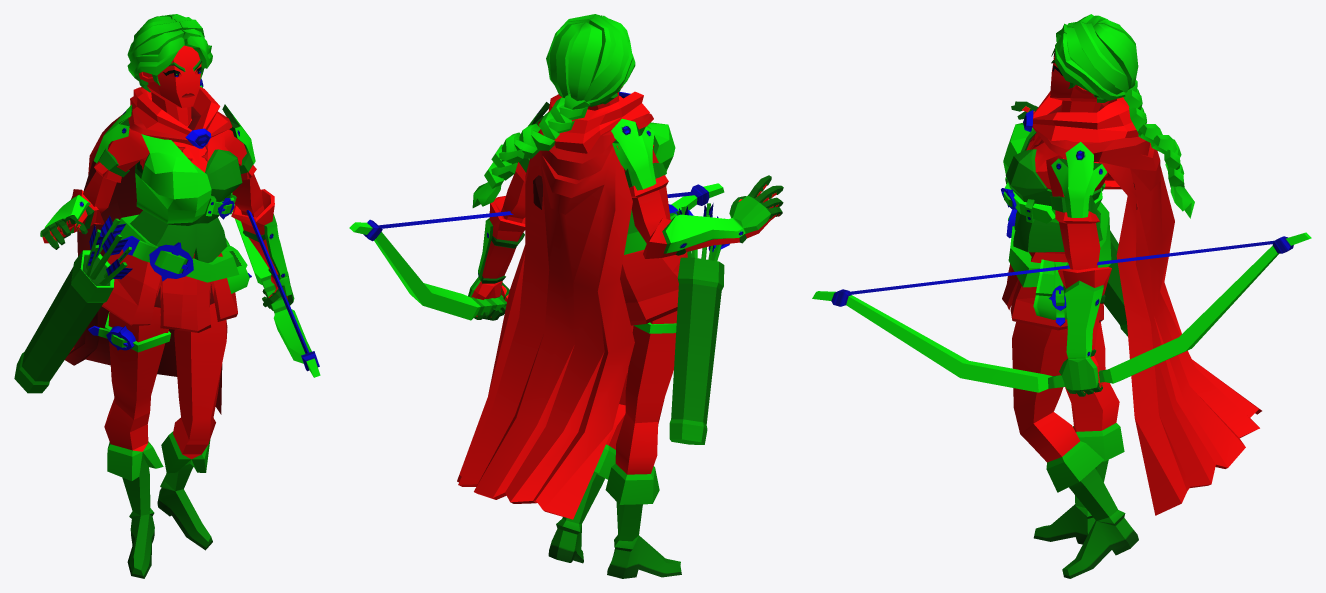
The model's file is F_Archer_prePosed2.fbx.
3 views of the same model, side by side, from view 1: azimuth 30°, elevation 25°; view 2: azimuth 150°, elevation 25°; view 3: azimuth 270°, elevation 25° (orthographic). The views are drawn at different scales.
Parts seen in each view (by area): view 1: F_Archer_prePosed; view 2: F_Archer_prePosed; view 3: F_Archer_prePosed.
Part boxes in pixels (x1,y1,x2,y2): F_Archer_prePosed: (14, 14, 320, 578); F_Archer_prePosed: (349, 14, 783, 578); F_Archer_prePosed: (812, 14, 1311, 578).
Size of the model in its own units: 113 by 205 by 170.
